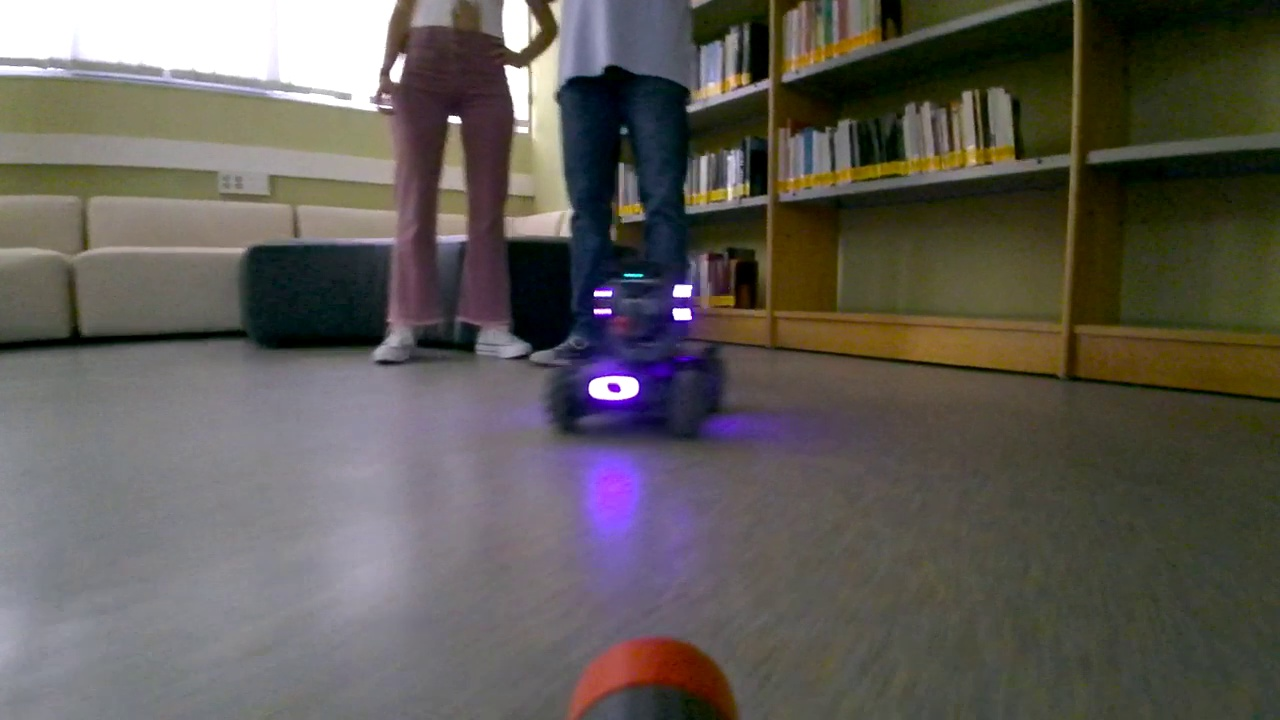robot: (547, 259, 730, 443)
